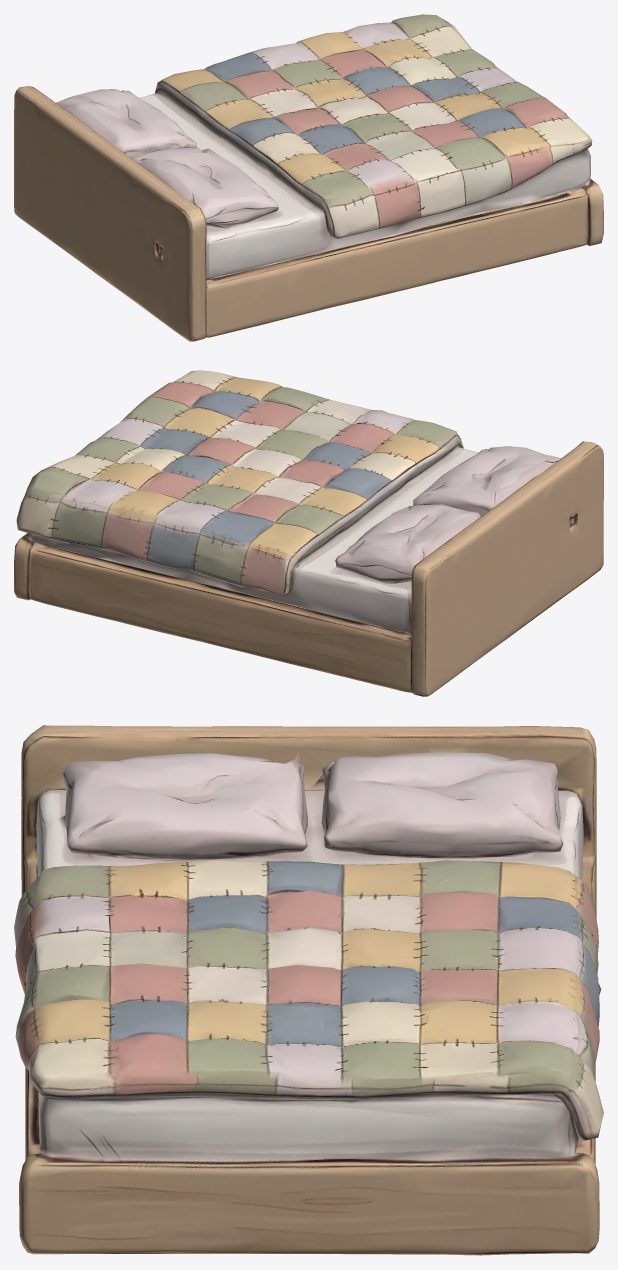
File: bed_double.glb
3 views of the same model, one above another, from view 1: azimuth 30°, elevation 25°; view 2: azimuth 150°, elevation 25°; view 3: azimuth 270°, elevation 25° (orthographic). The views are drawn at different scales.
Parts seen in each view (by area): view 1: tripo_node_710c5183-59b7-41ea-84fb-0d6b5fdf59c0; view 2: tripo_node_710c5183-59b7-41ea-84fb-0d6b5fdf59c0; view 3: tripo_node_710c5183-59b7-41ea-84fb-0d6b5fdf59c0.
Part boxes in pixels (x1=…): tripo_node_710c5183-59b7-41ea-84fb-0d6b5fdf59c0: x1=14, y1=14, x2=603, y2=341; tripo_node_710c5183-59b7-41ea-84fb-0d6b5fdf59c0: x1=14, y1=370, x2=603, y2=696; tripo_node_710c5183-59b7-41ea-84fb-0d6b5fdf59c0: x1=14, y1=725, x2=603, y2=1255.
Bounding box in the file's own units: 1 × 0.3006 × 0.7659.
1 material, 1 textured.
